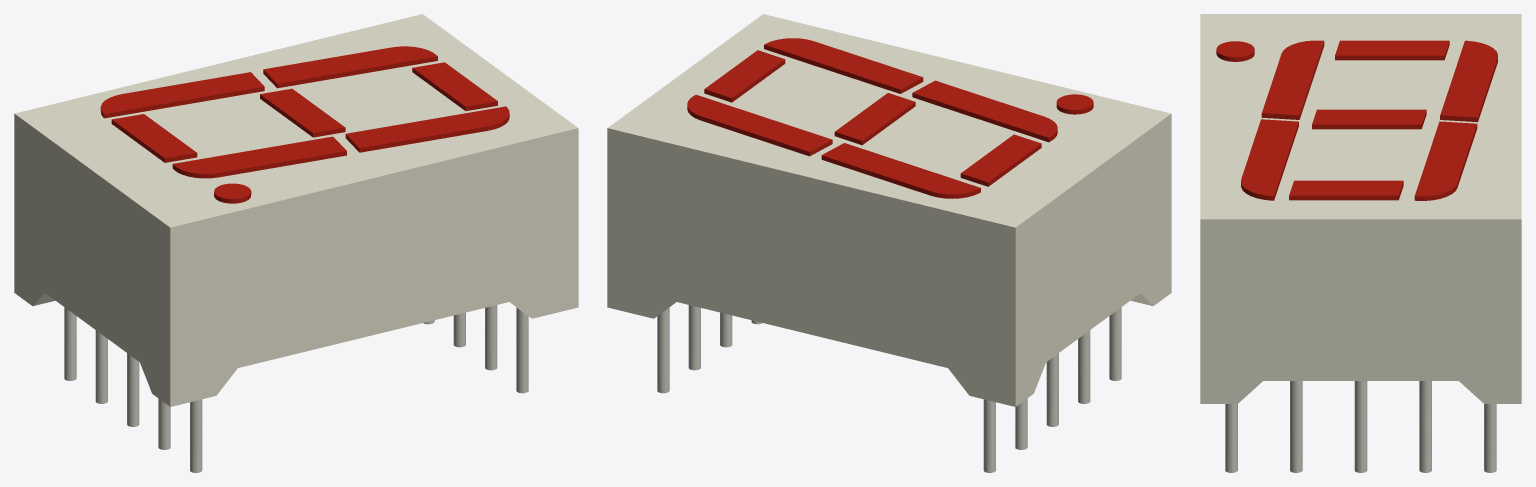
File: kc-7segmentled_lts6760_lts6780.glb
3 renders of one model, left to right at view 1: azimuth 30°, elevation 25°; view 2: azimuth 150°, elevation 25°; view 3: azimuth 270°, elevation 25°, orthographic. The views are drawn at different scales.
Parts seen in each view (by area): view 1: 0.75_0.75_0.6666666666666666_0, 0.4166666666666667_0_0_0, 0.6666666666666666_0.6666666666666666_0.5833333333333334_0.8; view 2: 0.75_0.75_0.6666666666666666_0, 0.4166666666666667_0_0_0, 0.6666666666666666_0.6666666666666666_0.5833333333333334_0.8; view 3: 0.75_0.75_0.6666666666666666_0, 0.4166666666666667_0_0_0, 0.6666666666666666_0.6666666666666666_0.5833333333333334_0.8.
Boxes of the visible parts, x1=… form: 0.75_0.75_0.6666666666666666_0: x1=14, y1=14, x2=578, y2=406; 0.4166666666666667_0_0_0: x1=100, y1=46, x2=509, y2=203; 0.6666666666666666_0.6666666666666666_0.5833333333333334_0.8: x1=64, y1=305, x2=528, y2=472; 0.75_0.75_0.6666666666666666_0: x1=607, y1=14, x2=1171, y2=406; 0.4166666666666667_0_0_0: x1=687, y1=38, x2=1093, y2=198; 0.6666666666666666_0.6666666666666666_0.5833333333333334_0.8: x1=657, y1=305, x2=1121, y2=472; 0.75_0.75_0.6666666666666666_0: x1=1200, y1=14, x2=1521, y2=403; 0.4166666666666667_0_0_0: x1=1216, y1=40, x2=1497, y2=200; 0.6666666666666666_0.6666666666666666_0.5833333333333334_0.8: x1=1225, y1=381, x2=1496, y2=472.
Bounding box in the file's own units: 1.9 × 1.2 × 1.26.
